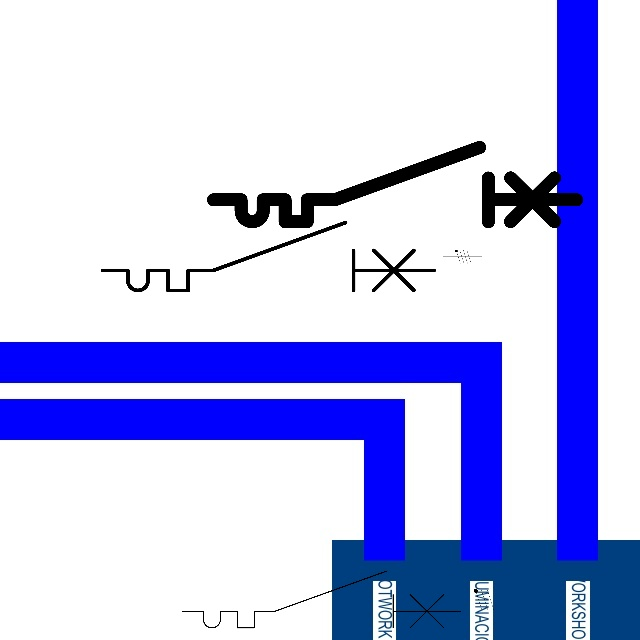interruptor_termomagnetico: (204, 138, 586, 231), (94, 214, 442, 299), (175, 564, 467, 635)
